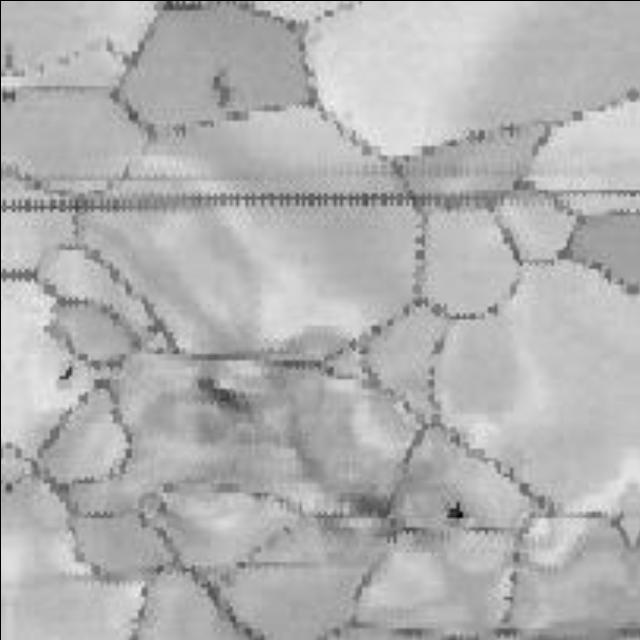good_void: (187, 373, 256, 414), (207, 70, 230, 110), (56, 362, 74, 383), (446, 498, 463, 520)
